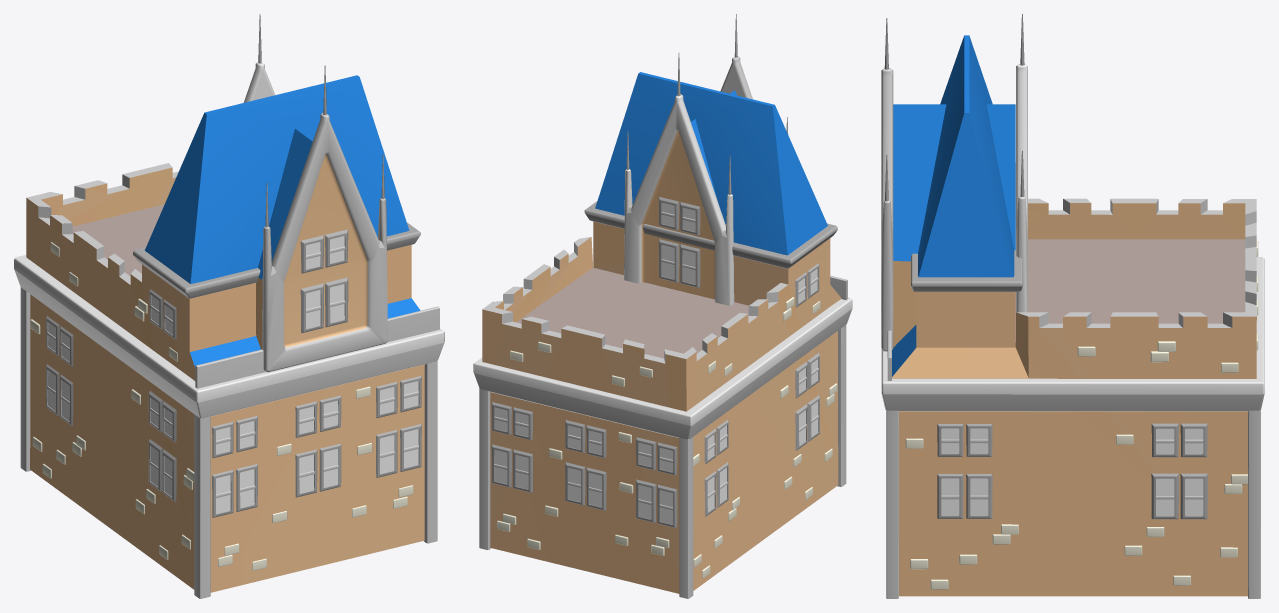
File: castle_003.gltf
3 views of the same model, side by side, from view 1: azimuth 30°, elevation 25°; view 2: azimuth 150°, elevation 25°; view 3: azimuth 270°, elevation 25° (orthographic). The views are drawn at different scales.
Parts seen in each view (by area): view 1: castle_003; view 2: castle_003; view 3: castle_003.
Boxes of the visible parts, bbox=[...] form: castle_003: bbox=[14, 14, 444, 598]; castle_003: bbox=[473, 14, 852, 598]; castle_003: bbox=[881, 14, 1264, 598].
Size of the model in its own units: 9.98 by 19.43 by 12.8.
Materials: 2 (1 with a texture image).
